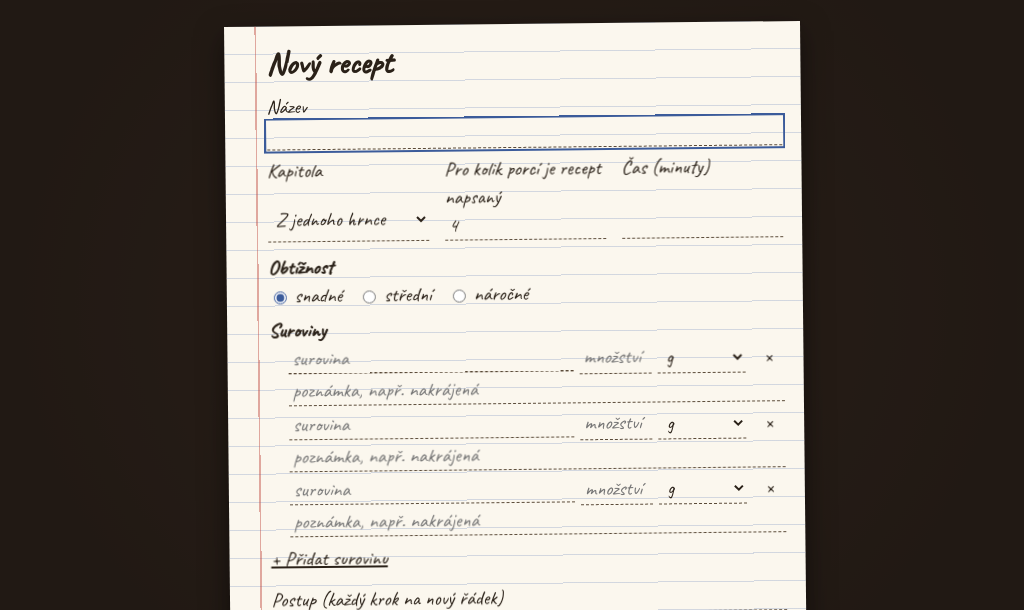
řádky surovin: přidat a odebrat
Expected: the number of dropdowns labelled "surovina" is 3, [288,342,573,374]; [289,408,574,440]; [290,474,575,506]
Click the button "+ Přidat surovinu". click: (329, 559)
box: [271,545,388,574]
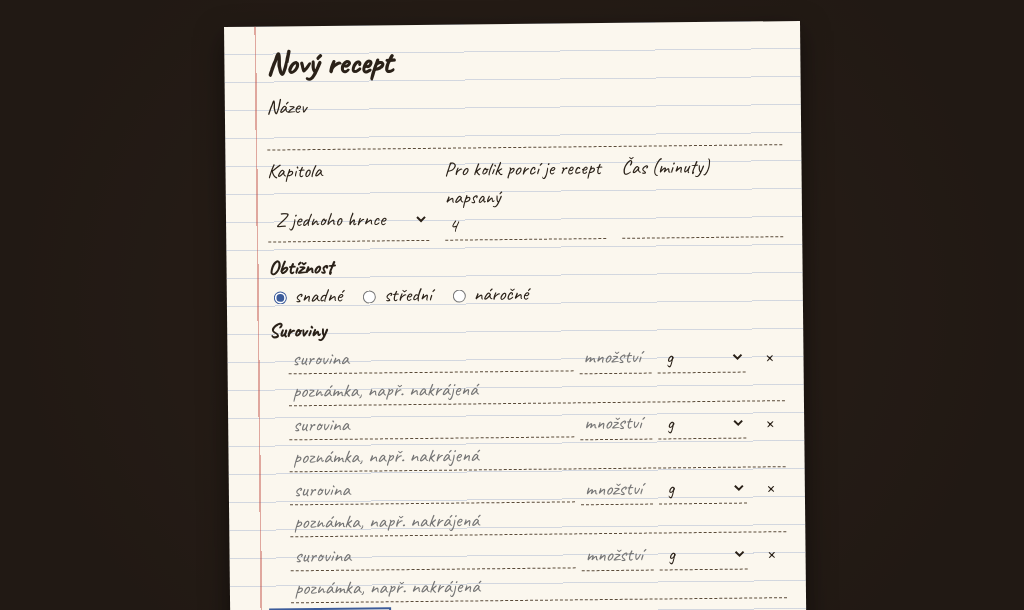
Expected: the number of dropdowns labelled "surovina" is 4, [288,342,573,374]; [289,408,574,440]; [290,474,575,506]; [290,540,575,572]
Click the button named "Odebrat surovinu 1". click: (768, 356)
box: [752,340,784,372]
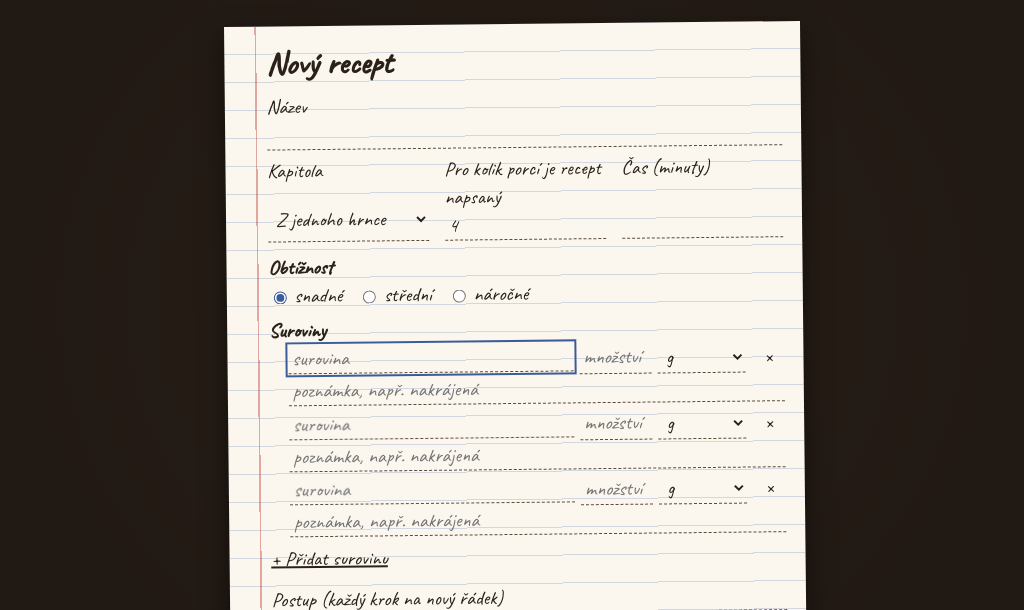
Expected: the number of dropdowns labelled "surovina" is 3, [288,342,573,374]; [289,408,574,440]; [290,474,575,506]
